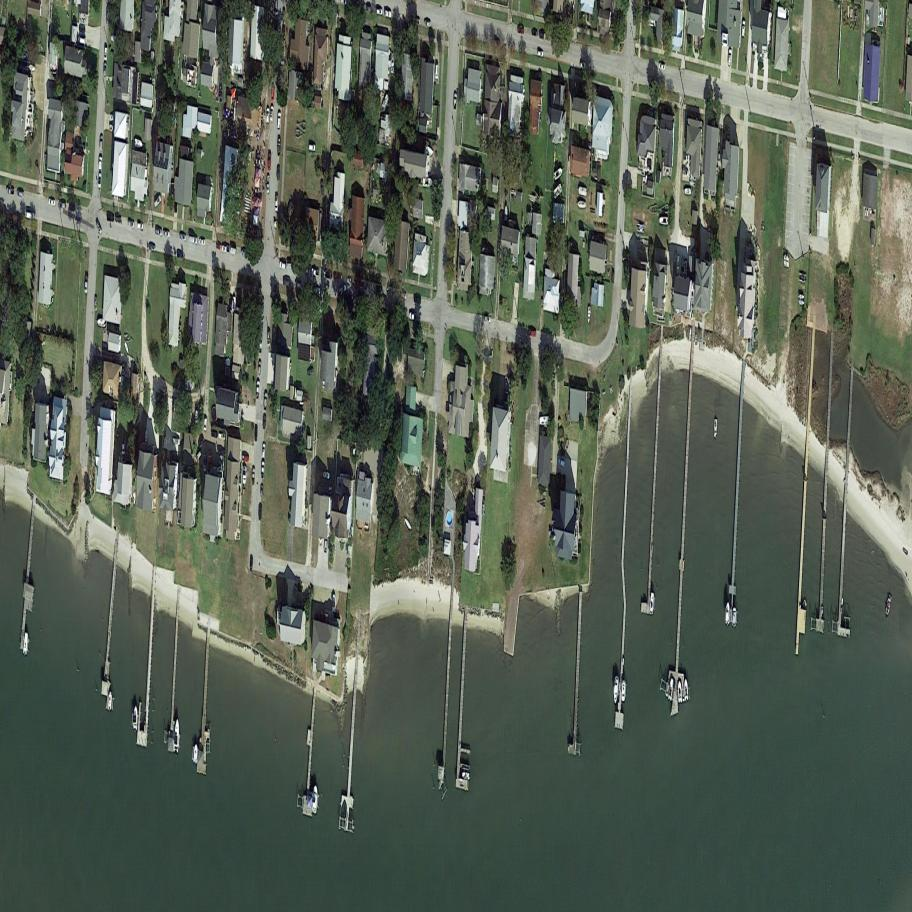ship: (550, 165, 568, 184), (549, 182, 566, 200), (612, 674, 620, 707), (311, 785, 319, 815), (380, 92, 391, 113), (884, 593, 893, 618), (174, 718, 180, 754), (667, 677, 675, 703), (132, 704, 139, 732), (724, 601, 731, 627), (22, 632, 29, 657), (192, 742, 199, 766), (683, 678, 689, 703), (677, 679, 683, 704), (95, 318, 108, 329), (798, 270, 807, 285), (422, 176, 433, 188), (577, 186, 589, 197), (460, 770, 472, 781), (134, 138, 143, 151), (241, 466, 247, 485), (123, 340, 130, 356), (713, 418, 718, 440), (108, 691, 113, 712), (732, 608, 737, 628), (621, 682, 626, 702), (539, 417, 550, 426), (650, 593, 654, 616), (636, 224, 645, 234), (659, 216, 669, 225), (332, 594, 336, 615), (577, 200, 586, 209), (504, 203, 508, 223), (684, 187, 692, 197), (390, 56, 394, 75), (587, 305, 591, 324), (28, 64, 36, 73), (797, 298, 805, 307), (798, 292, 804, 301), (133, 491, 136, 506)
small-vehicle: (151, 193, 165, 209), (195, 434, 207, 448), (276, 259, 289, 271), (193, 450, 204, 464), (337, 284, 349, 296), (407, 311, 420, 322), (679, 167, 691, 178), (95, 220, 103, 235), (556, 458, 568, 468), (727, 48, 733, 67), (323, 270, 334, 280), (239, 248, 250, 258), (214, 241, 225, 251), (526, 328, 538, 337), (537, 31, 549, 40), (280, 46, 285, 66), (194, 405, 199, 425), (47, 197, 58, 206), (57, 200, 68, 209), (321, 471, 332, 480), (188, 236, 199, 245), (121, 436, 126, 455), (171, 437, 181, 446), (106, 213, 116, 222), (516, 25, 526, 34), (269, 105, 274, 123), (209, 429, 219, 438), (228, 246, 237, 256), (154, 227, 163, 237), (718, 145, 722, 167), (311, 267, 319, 278), (307, 367, 315, 378), (6, 186, 15, 195), (658, 62, 667, 71), (530, 28, 539, 37), (77, 37, 87, 45), (98, 155, 103, 171), (84, 275, 88, 295), (413, 295, 421, 305), (483, 315, 493, 323), (453, 90, 457, 110), (412, 17, 422, 25), (384, 9, 392, 19), (257, 358, 261, 378), (277, 136, 281, 156), (256, 380, 260, 400), (251, 466, 255, 486), (127, 219, 135, 229), (179, 232, 187, 242), (275, 193, 279, 212), (742, 20, 746, 39), (219, 83, 223, 102), (271, 82, 275, 101), (264, 392, 268, 411), (261, 461, 265, 480), (16, 189, 24, 198), (68, 203, 77, 211), (333, 273, 342, 281), (399, 292, 408, 300), (308, 144, 316, 153), (277, 112, 281, 130), (423, 20, 432, 28), (364, 5, 373, 13), (267, 330, 271, 348), (294, 281, 302, 290), (283, 277, 291, 286), (262, 443, 266, 461), (241, 454, 250, 462), (149, 242, 156, 252), (99, 134, 103, 151), (266, 177, 270, 194), (282, 24, 286, 41), (98, 173, 102, 189), (109, 124, 117, 132), (208, 449, 212, 465), (435, 64, 439, 80), (222, 245, 230, 253), (26, 212, 35, 219), (110, 113, 117, 122), (199, 237, 206, 246), (163, 229, 170, 238), (676, 255, 680, 270), (204, 417, 208, 432), (176, 250, 183, 258), (104, 47, 108, 61), (103, 63, 107, 77), (345, 277, 352, 285), (611, 270, 615, 284), (537, 50, 544, 58), (219, 431, 226, 439), (203, 455, 206, 473), (268, 153, 271, 171), (277, 164, 280, 182), (255, 425, 258, 443), (321, 180, 324, 197), (259, 504, 262, 521), (263, 414, 266, 431), (115, 216, 122, 223), (376, 9, 383, 16), (266, 107, 269, 123), (137, 222, 143, 230), (94, 296, 97, 311), (250, 557, 253, 572), (580, 61, 586, 68), (261, 484, 263, 498)
